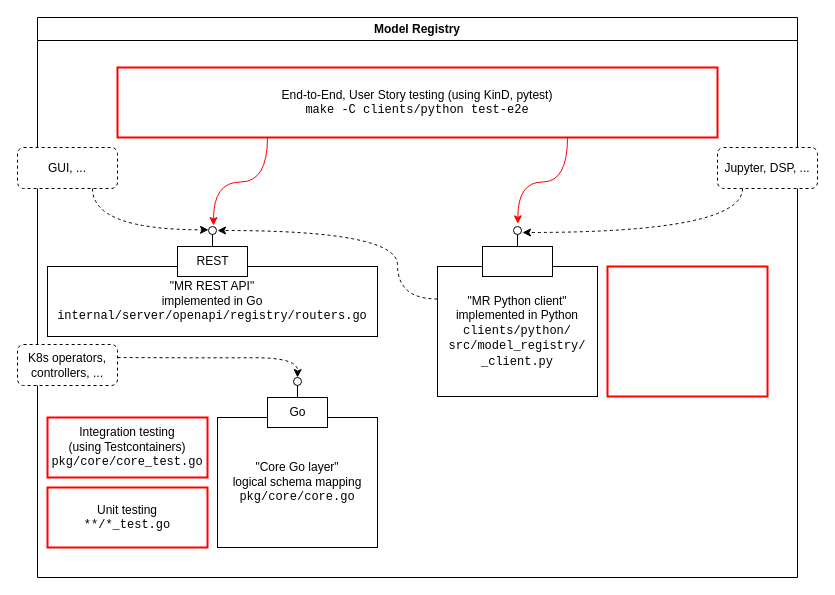
Image size: 835x595. Some labels were removed from this diagram. The centre of each missing label's shape, as x and y in pixels:
"Python" belongs at [517,261].
"Testing clients/python/tests/ **/*.py" belongs at [687,331].
